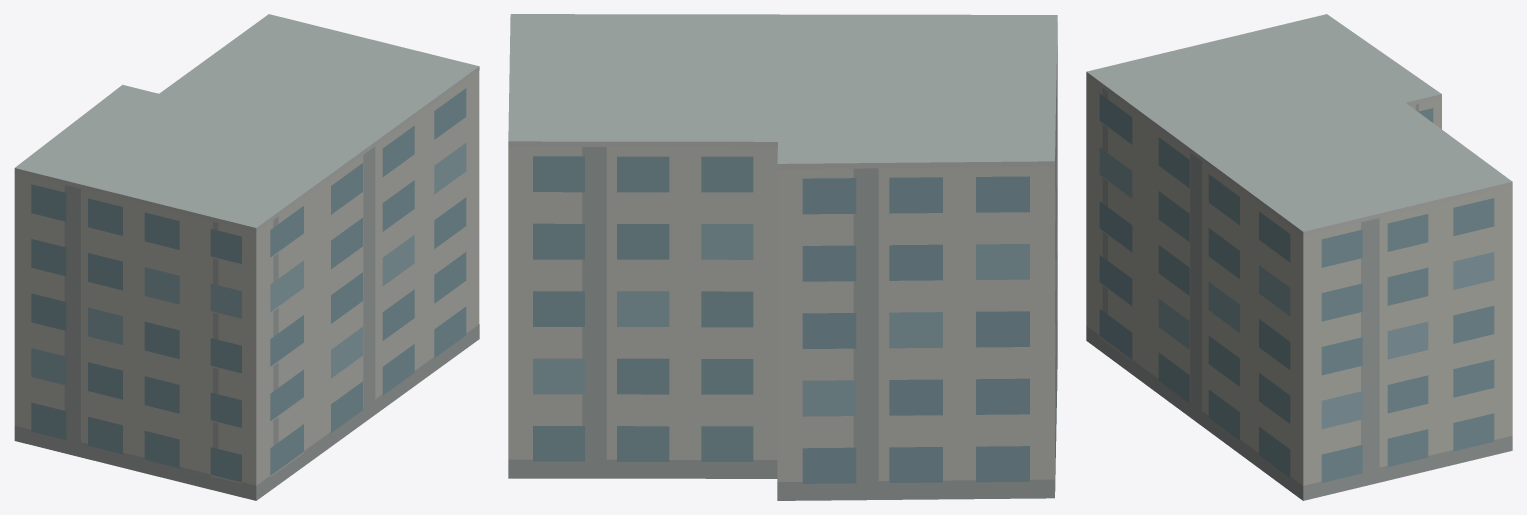
The model's file is survey-upis-32706635.glb.
The picture shows the model from 3 angles, left to right: view 1: azimuth 30°, elevation 25°; view 2: azimuth 150°, elevation 25°; view 3: azimuth 270°, elevation 25°; orthographic projection. The views are drawn at different scales.
Visible parts, largest first — view 1: survey-upis-32706635.tmp; view 2: survey-upis-32706635.tmp; view 3: survey-upis-32706635.tmp.
Boxes of the visible parts, x1,y1,x2,y2 form: survey-upis-32706635.tmp: (14, 14, 479, 500); survey-upis-32706635.tmp: (508, 14, 1057, 500); survey-upis-32706635.tmp: (1086, 14, 1512, 500).
Size of the model in its own units: 26.49 by 15.25 by 21.9.
